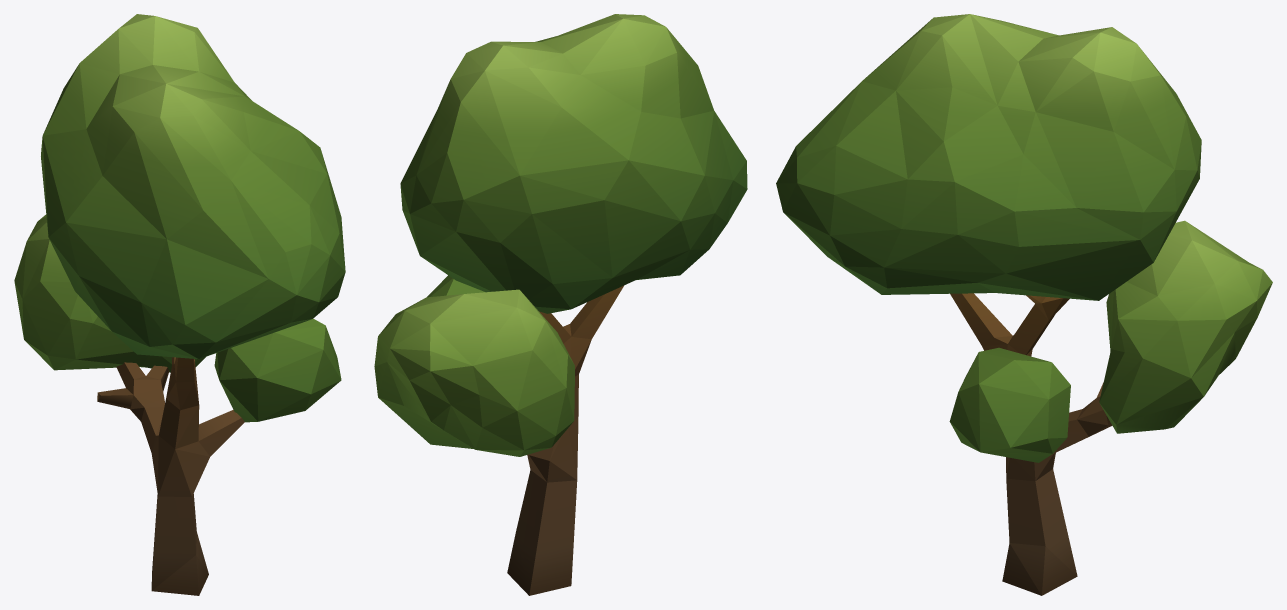
Rendered from Tree_01.fbx.
3 views of the same model, side by side, from view 1: azimuth 30°, elevation 25°; view 2: azimuth 150°, elevation 25°; view 3: azimuth 270°, elevation 25° (orthographic). The views are drawn at different scales.
Visible parts, largest first — view 1: Tree_01; view 2: Tree_01; view 3: Tree_01.
Part boxes in pixels (x1=…): Tree_01: x1=14, y1=14, x2=345, y2=595; Tree_01: x1=374, y1=14, x2=747, y2=595; Tree_01: x1=776, y1=14, x2=1272, y2=595.
Bounding box in the file's own units: 2.76 × 5.11 × 4.17.
